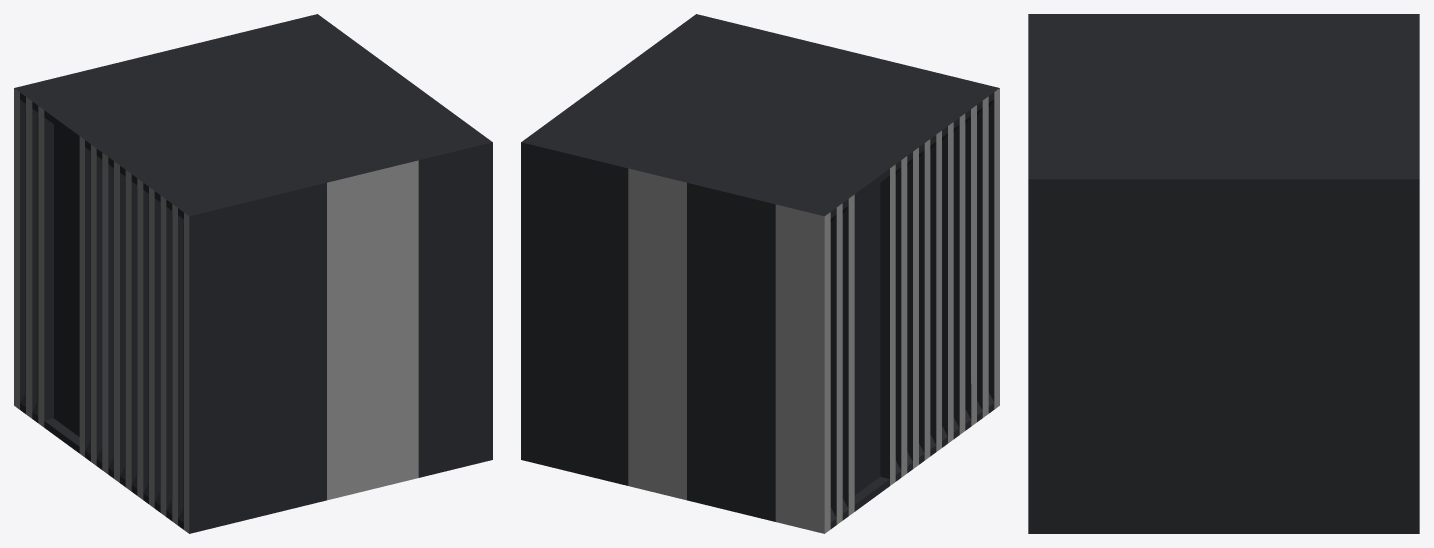
Rendered from Building_01_A.FBX.
3 renders of one model, left to right at view 1: azimuth 30°, elevation 25°; view 2: azimuth 150°, elevation 25°; view 3: azimuth 270°, elevation 25°, orthographic. The views are drawn at different scales.
Visible parts, largest first — view 1: Building_01_A_LOD0; view 2: Building_01_A_LOD0; view 3: Building_01_A_LOD0.
Part boxes in pixels (x1=…): Building_01_A_LOD0: x1=14, y1=14, x2=492, y2=533; Building_01_A_LOD0: x1=521, y1=14, x2=999, y2=533; Building_01_A_LOD0: x1=1028, y1=14, x2=1419, y2=533.
Size of what is drawn, in the model's own units: 180 by 180 by 180.
